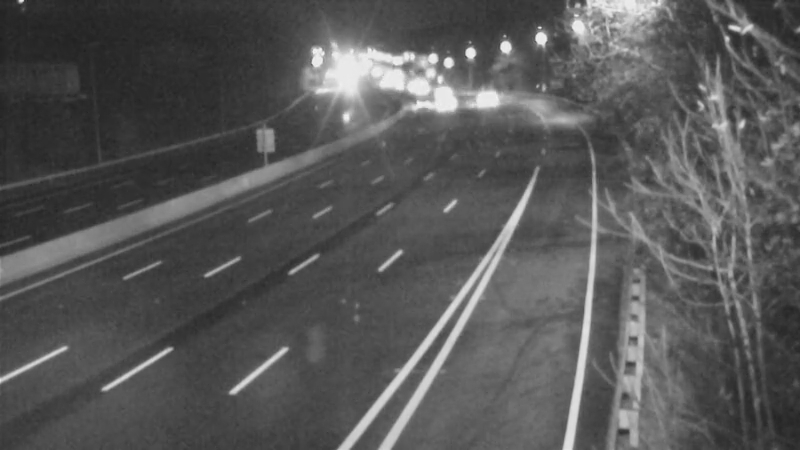vehicle: (396, 63, 446, 113), (416, 66, 466, 116), (455, 67, 505, 117), (391, 81, 441, 131), (416, 77, 466, 127)
